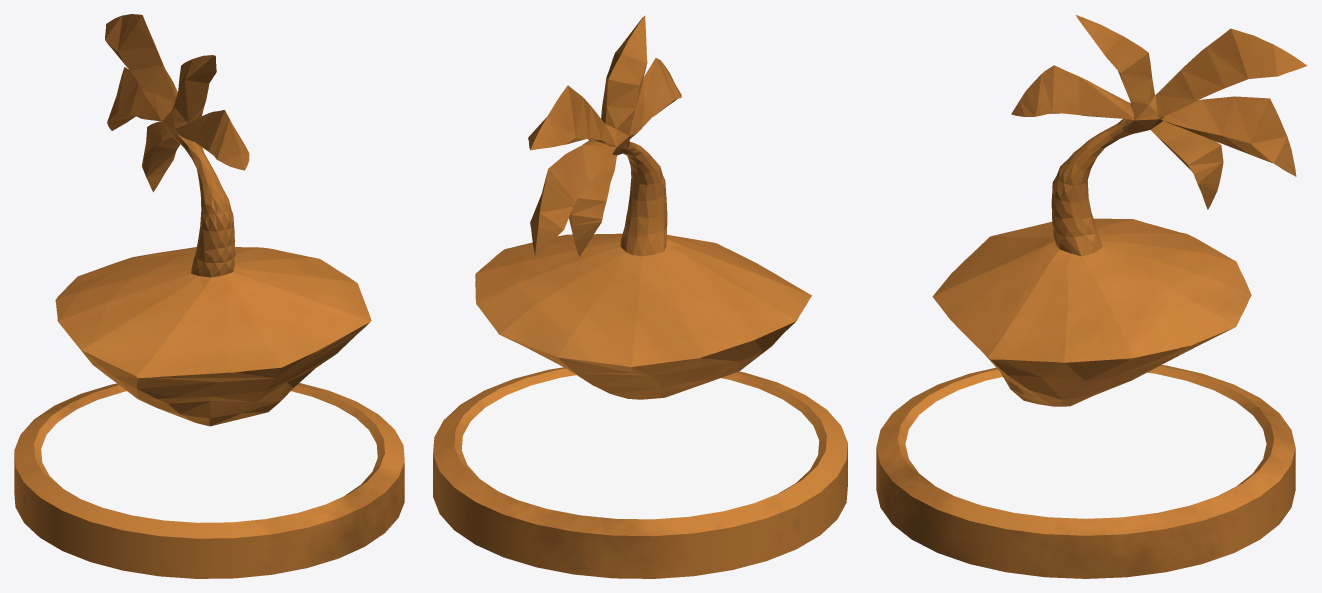
Rendered from bronzePalm.gltf.
3 renders of one model, left to right at view 1: azimuth 30°, elevation 25°; view 2: azimuth 150°, elevation 25°; view 3: azimuth 270°, elevation 25°, orthographic. The views are drawn at different scales.
Visible parts, largest first — view 1: Stand, bronzePalm; view 2: Stand, bronzePalm; view 3: Stand, bronzePalm.
Boxes of the visible parts, x1,y1,x2,y2 form: Stand: [14, 383, 404, 578]; bronzePalm: [55, 14, 371, 426]; Stand: [433, 367, 847, 578]; bronzePalm: [475, 15, 811, 399]; Stand: [876, 365, 1295, 578]; bronzePalm: [932, 15, 1307, 406].
Bounding box in the file's own units: 0.1547 × 0.1974 × 0.1591.
1 material, 1 textured.
